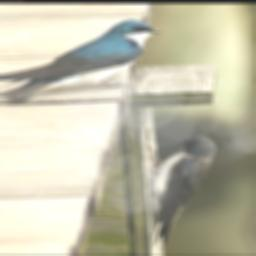Swallow: (0, 19, 160, 101)
